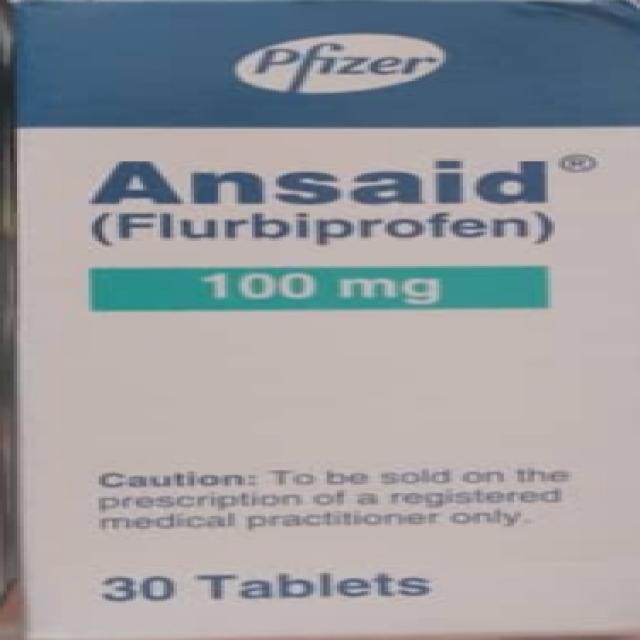drug-name: (88, 159, 550, 203)
